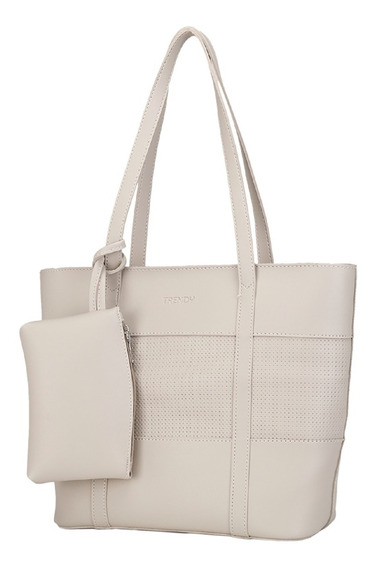cartera: (16, 26, 359, 542)
